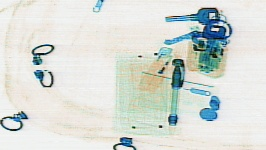lighter: (137, 47, 175, 93)
